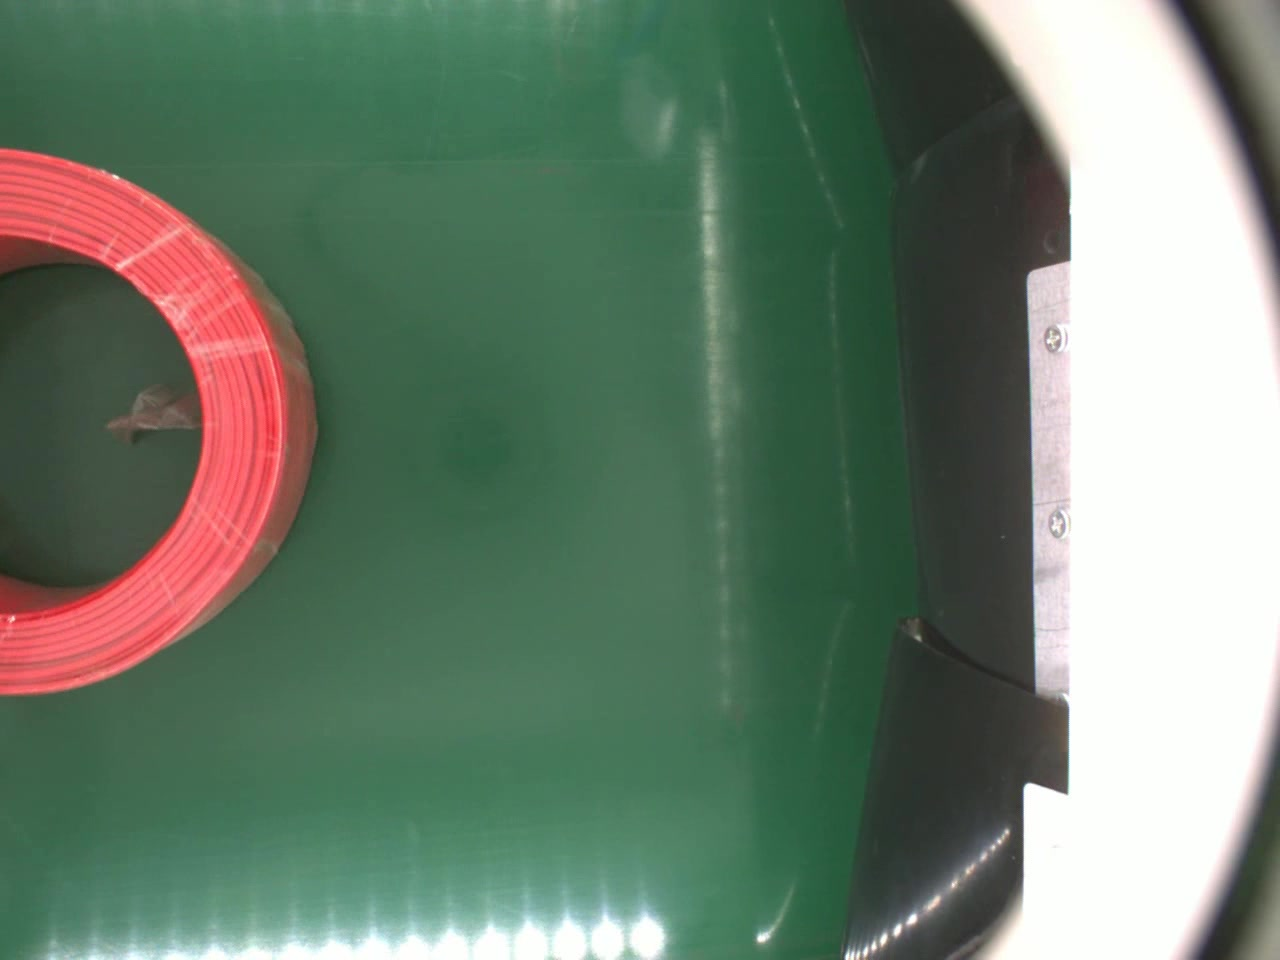red: (0, 142, 319, 694)
